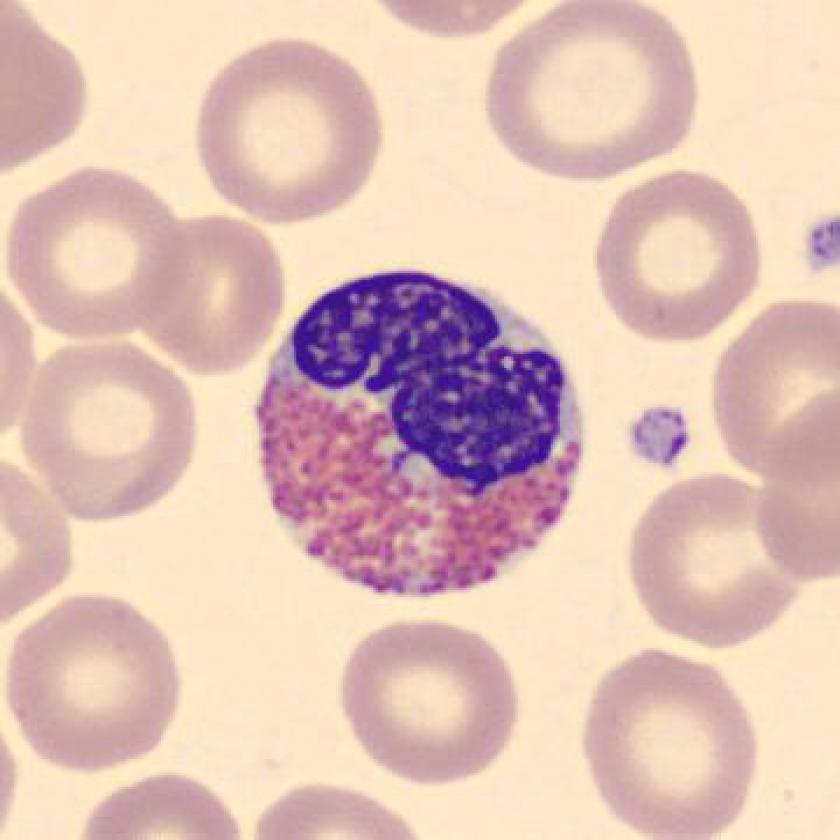eosinophil: (244, 256, 598, 605)
